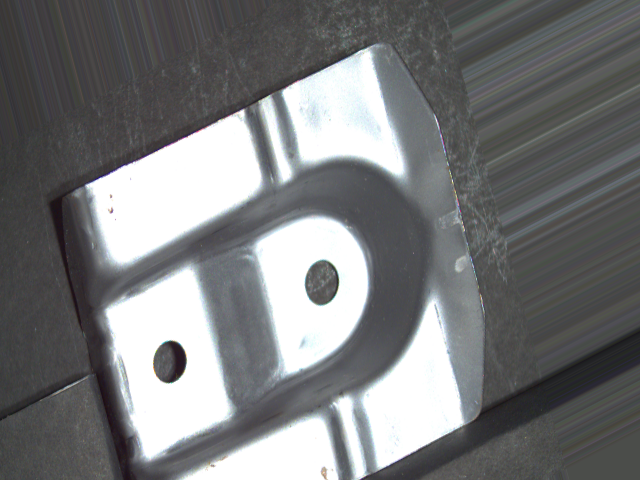defect: (300, 255, 341, 309)
